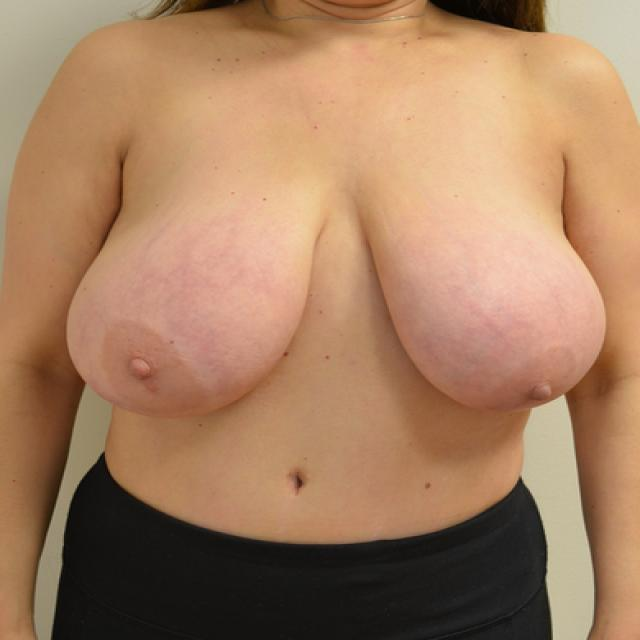Seno ileso: (59, 181, 338, 430), (345, 182, 613, 424)
